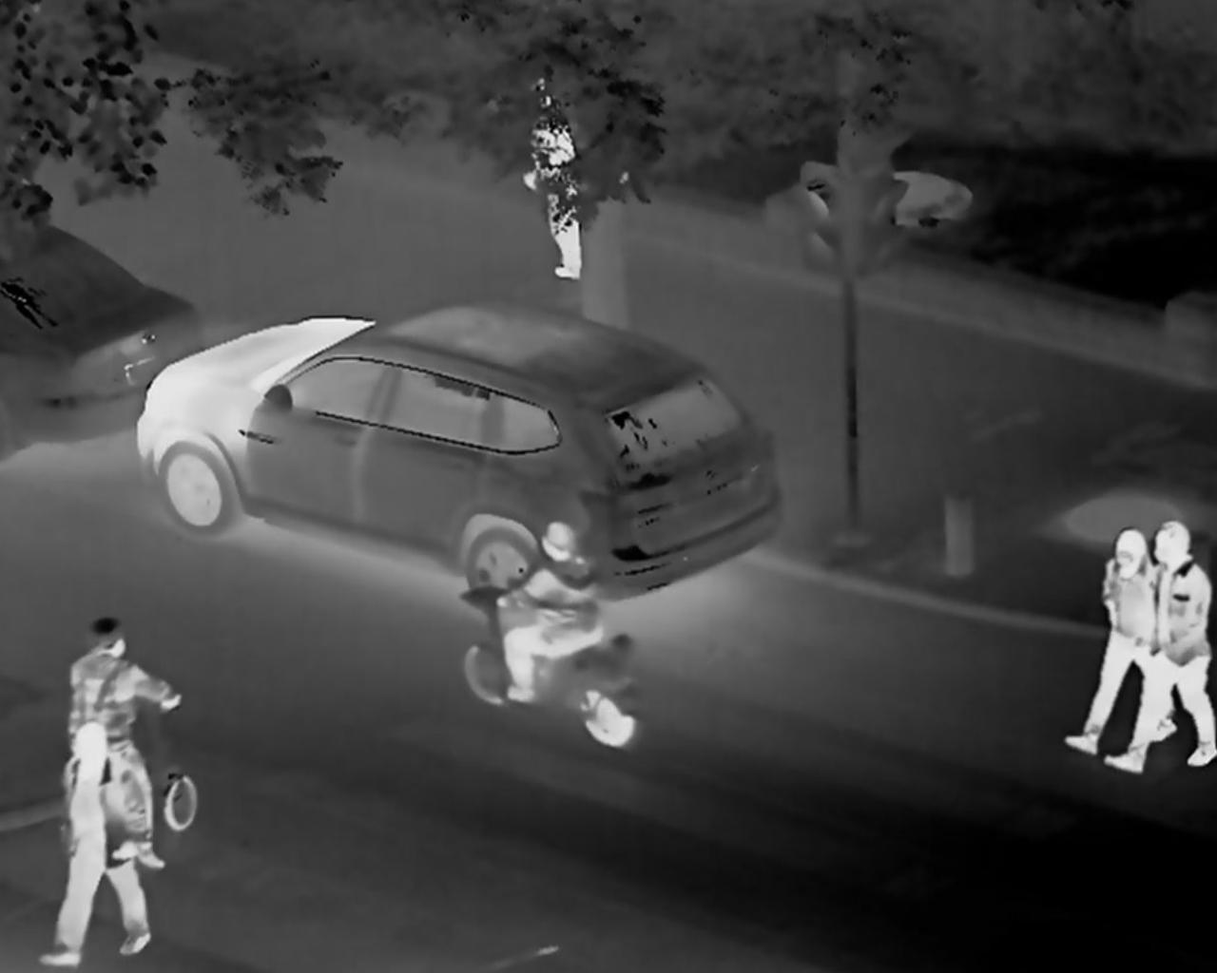person: (489, 492, 635, 726), (52, 756, 175, 973), (1141, 518, 1215, 792), (522, 86, 596, 263), (1092, 508, 1131, 771), (89, 620, 164, 753)
